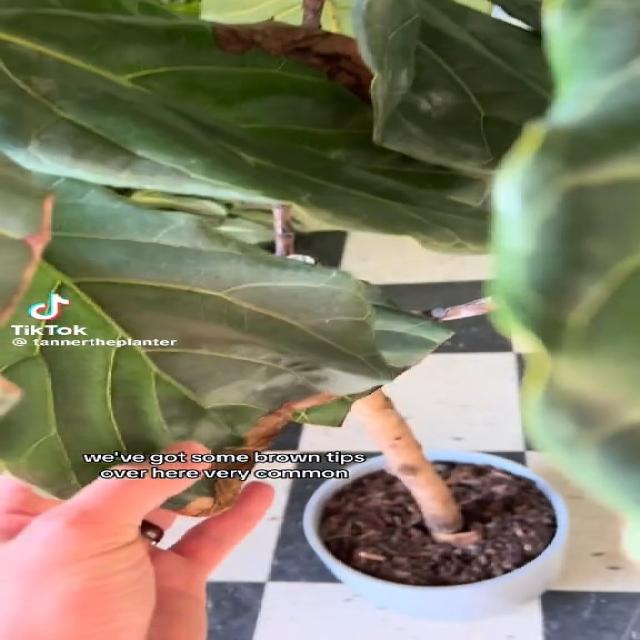lisc_suchy: (0, 149, 457, 517), (0, 0, 490, 255)
